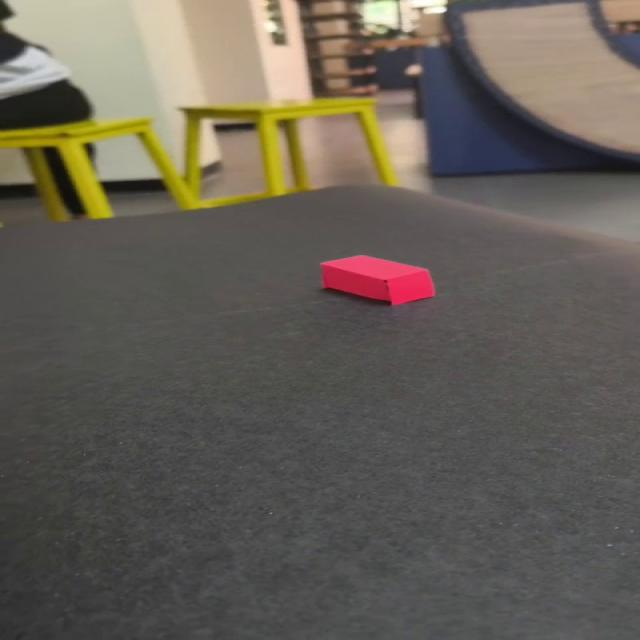red block: (318, 253, 434, 306)
